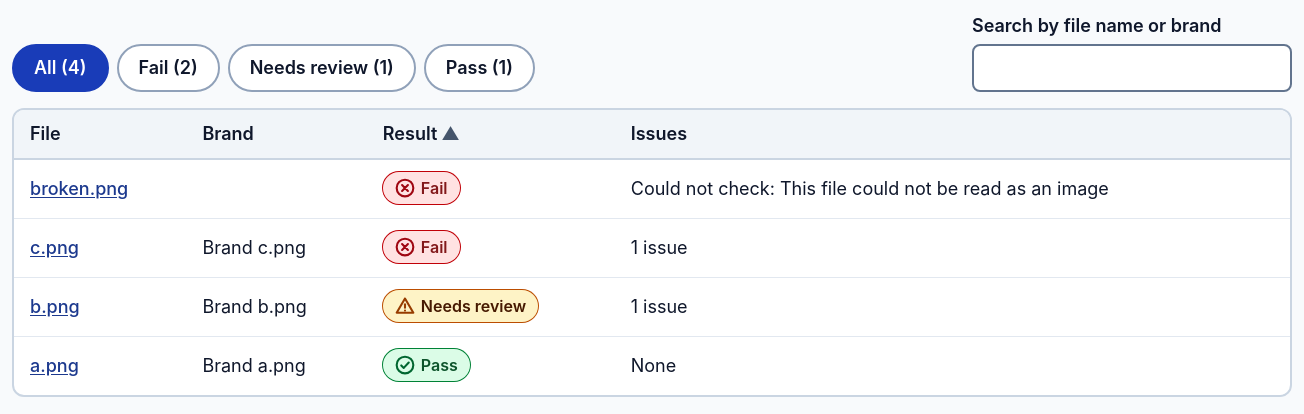
Test case: search matches file name or brand
Type "brand a" into the search field labelled "Search by file name or brand" at [1132, 68], box top-left (972, 44), bottom-right (1292, 92)
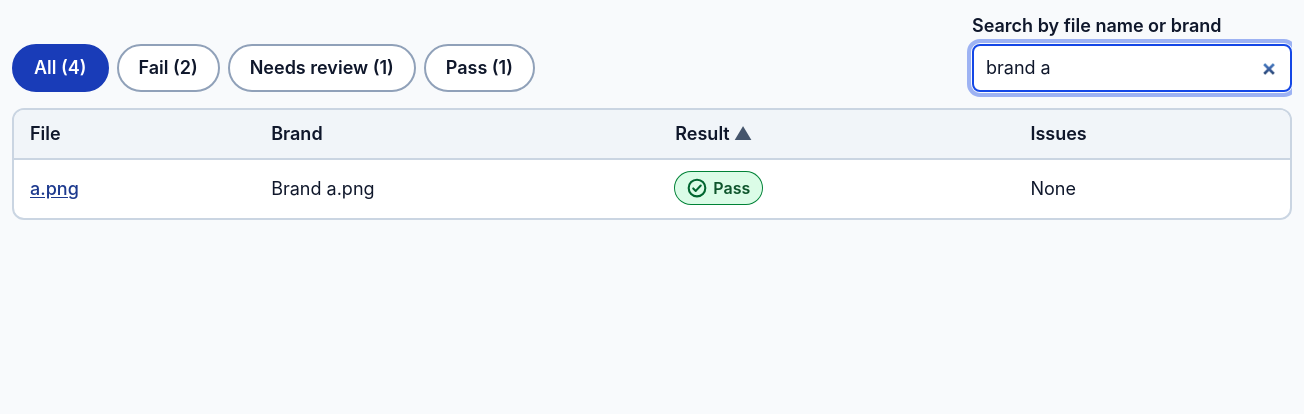
Replace the text in the search field labelled "Search by file name or brand" with "nothing" at [1132, 68], box top-left (972, 44), bottom-right (1292, 92)
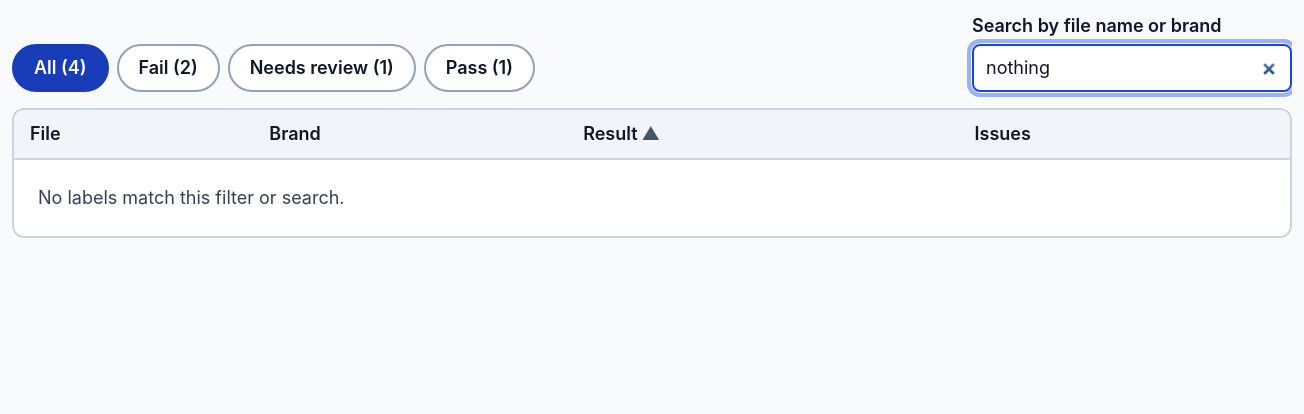
Now the text "No labels match this filter or search." is shown, box top-left (38, 187), bottom-right (344, 208)
